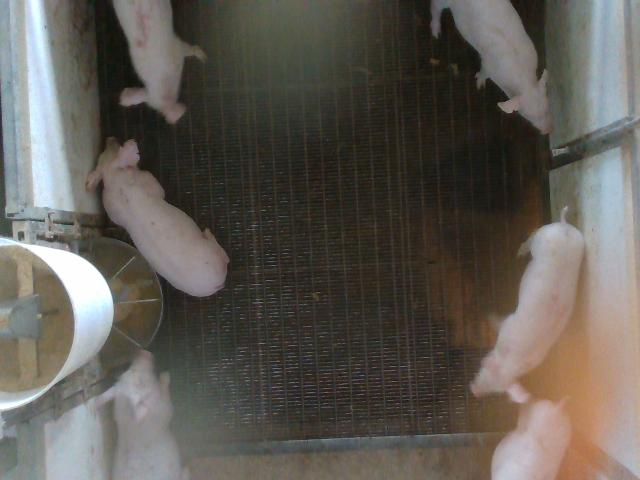pig-4: (471, 208, 584, 403)
